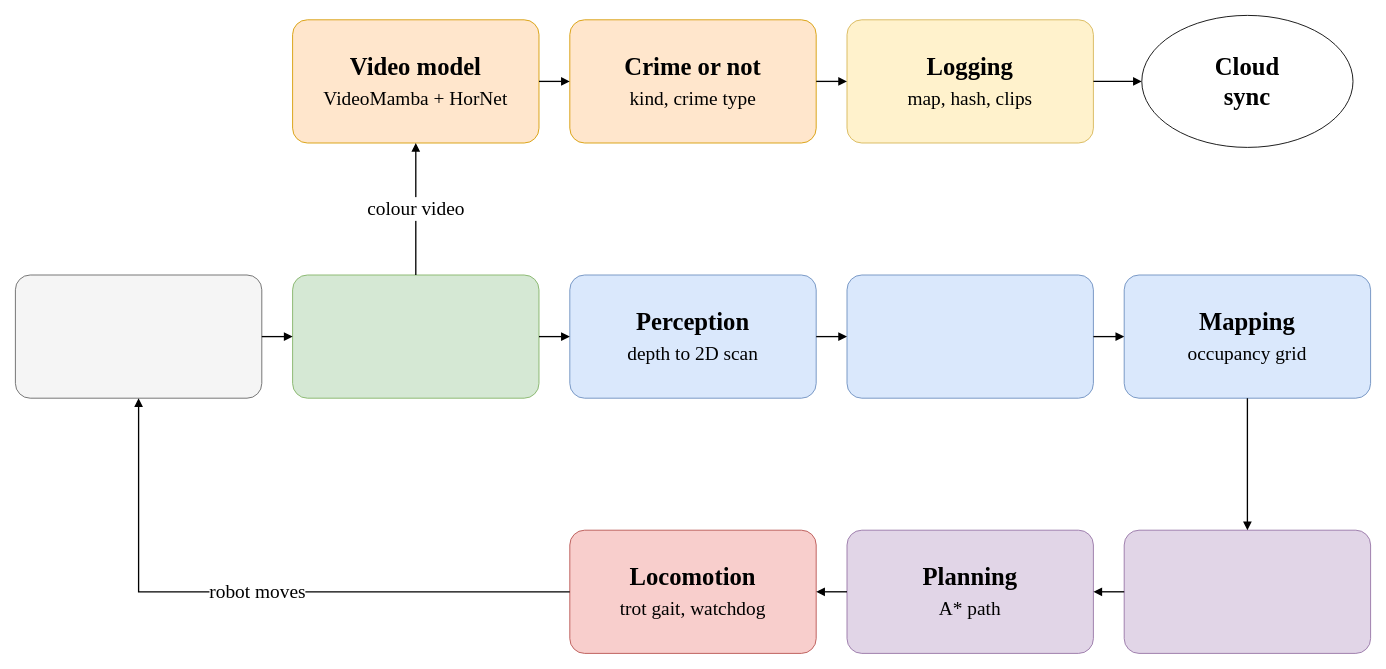
Image size: 1386x669. Some labels were removed from this diagram. Each missing label, with the box of its shape:
Exploration route waypoint or frontier goal: (1123, 529, 1371, 653)
Scene unknown, no map: (15, 274, 262, 398)
Sensing Kinect depth + colour gyro, leg odometry: (292, 274, 539, 398)
SLAM ICP pose, loop closure: (846, 274, 1093, 398)
